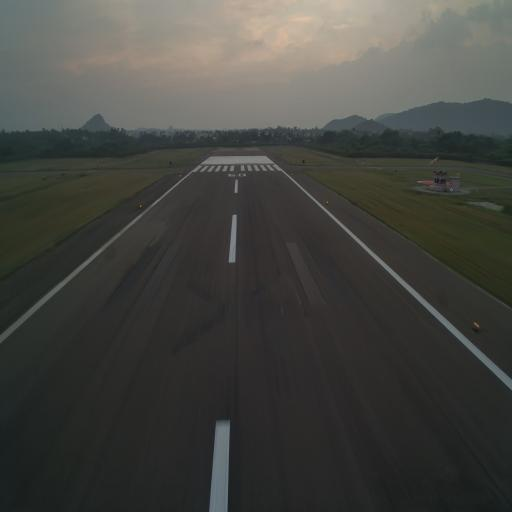on: (471, 318, 482, 334), (325, 197, 330, 207), (139, 202, 143, 210)
